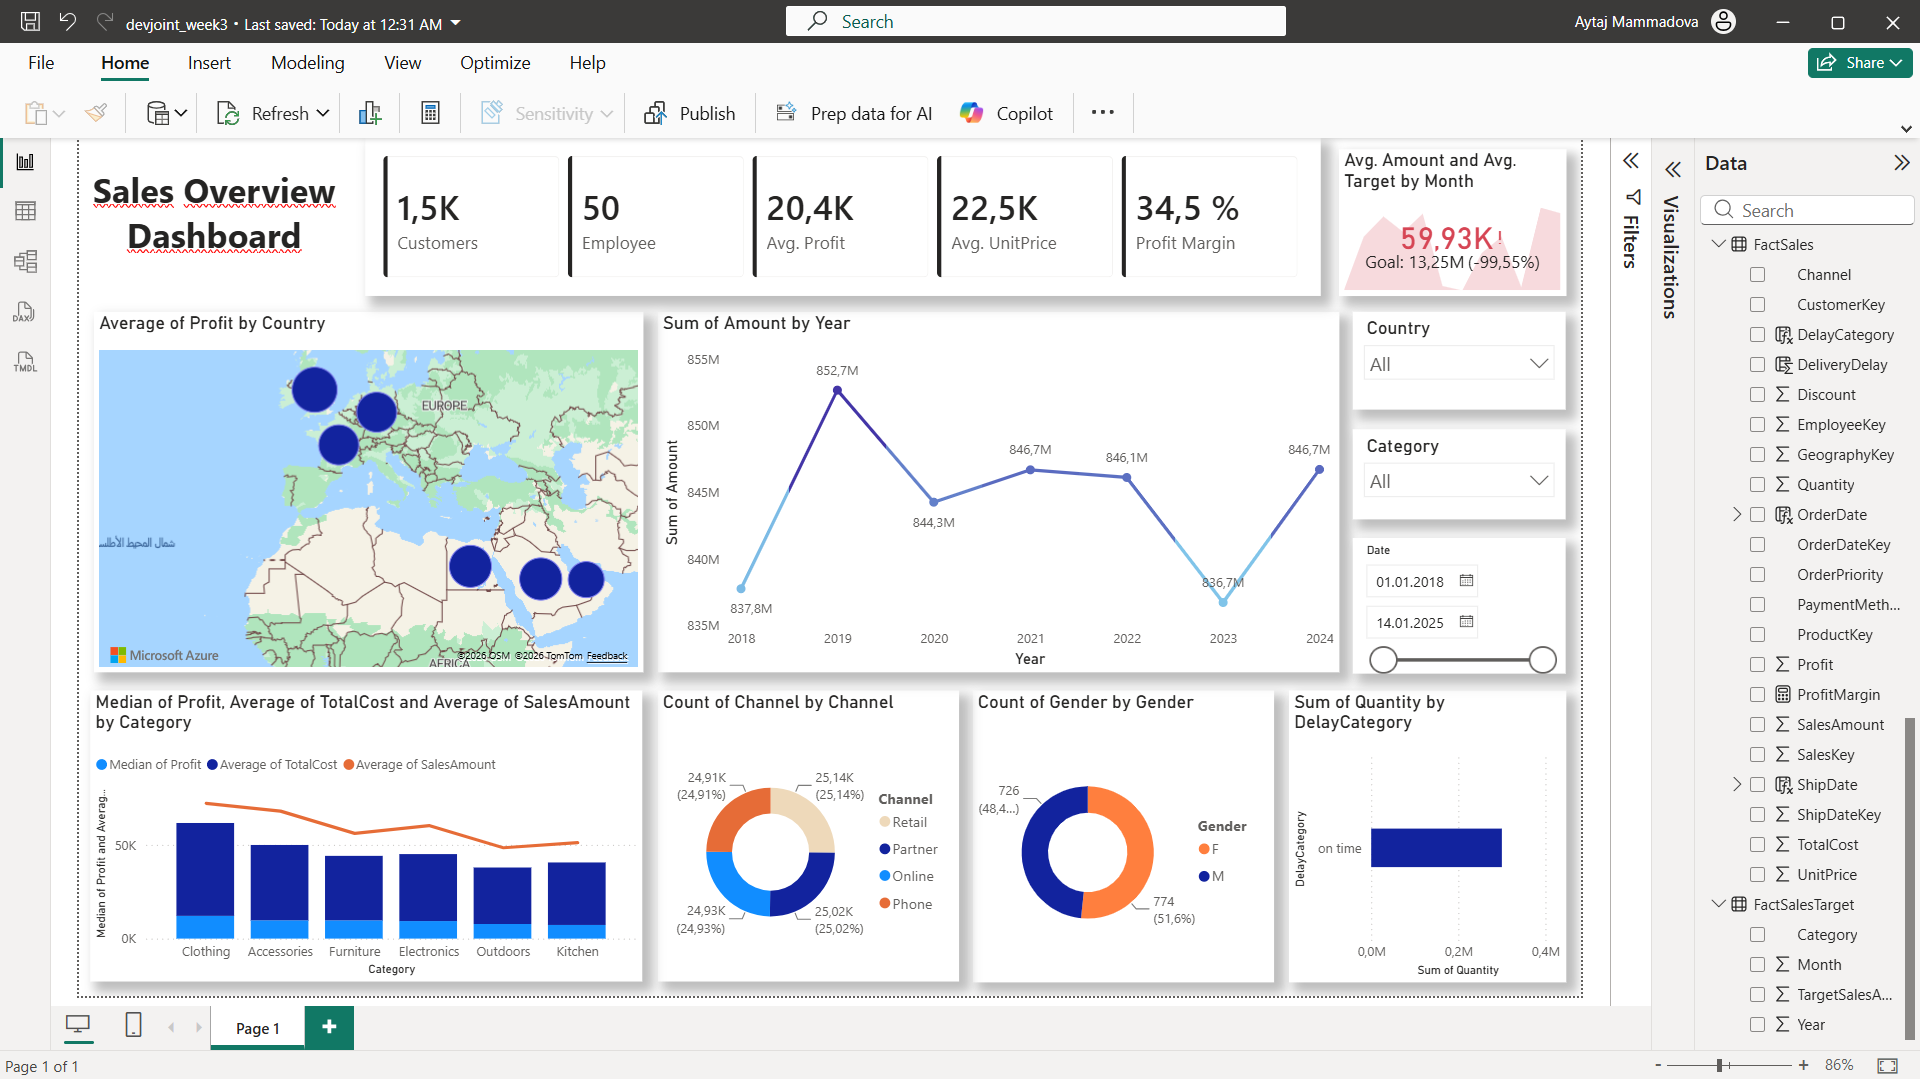

Layout of this report page (visuals, bound fields, positions):
{"tool":"powerbi","page":{"name":"Page 1","canvas":[1400,800],"ordinal":0},"visuals":[{"type":"donutChart","fields":{"Category":["DimCustomer.Gender"],"Y":["CountNonNull(DimCustomer.Gender)"]},"box":[833,514.8,280.7,271.7],"z":0},{"type":"donutChart","fields":{"Category":["FactSales.Channel"],"Y":["CountNonNull(FactSales.Channel)"]},"box":[538.8,514.8,280.7,271],"z":1},{"type":"lineChart","fields":{"Category":["DimDate2.Date.Variation.Date Hierarchy.Year","DimDate2.Date.Variation.Date Hierarchy.Month"],"Y":["Sum(FactSales.SalesAmount)"]},"box":[538.8,162.1,634.9,336.2],"z":2},{"type":"azureMap","fields":{"Category":["DimGeography.Country"],"Size":["Avg(FactSales.Profit)"]},"box":[13.5,162.1,511.8,336.2],"z":3},{"type":"cardVisual","fields":{"Data":["Count(DimCustomer.CustomerKey)","Count(FactSales.EmployeeKey)","Avg(FactSales.Profit)","Avg(FactSales.UnitPrice)","FactSales.ProfitMargin"]},"box":[267.2,0,890,147.1],"z":4},{"type":"lineStackedColumnComboChart","fields":{"Category":["DimProduct.Category"],"Y":["Median(FactSales.Profit)","Avg(FactSales.TotalCost)"],"Y2":["Avg(FactSales.SalesAmount)"]},"box":[10.5,514.8,514.8,271],"z":5},{"type":"kpi","fields":{"Goal":["Avg(FactSalesTarget.TargetSalesAmount)"],"Indicator":["Avg(FactSales.SalesAmount)"],"TrendLine":["DimDate2.Month"]},"box":[1173.7,10.5,211.6,136.6],"z":6},{"type":"clusteredBarChart","fields":{"Category":["FactSales.DelayCategory"],"Y":["Sum(FactSales.Quantity)"]},"box":[1127.1,514.8,258.1,271.7],"z":7},{"type":"textbox","box":[0,21,252.1,115.6],"z":9},{"type":"slicer","fields":{"Values":["DimGeography.Country"]},"box":[1187.2,162.1,198.1,91.6],"z":10},{"type":"slicer","fields":{"Values":["DimProduct.Category"]},"box":[1187.2,271.7,198.1,84],"z":11},{"type":"slicer","fields":{"Values":["DimDate2.Date"]},"box":[1187.2,372.2,198.1,126.1],"z":12}]}

Visuals, with their boxes on the page's 1400x800 design canvas (x1, y1, x2, y2). These are canvas units, not pixel positions in the 1920x1079 screenshot, which may show the page scaled, cropped or inside an application window:
donutChart - DimCustomer.Gender x CountNonNull(DimCustomer.Gender): rect(833, 515, 1114, 786)
donutChart - FactSales.Channel x CountNonNull(FactSales.Channel): rect(539, 515, 820, 786)
lineChart - DimDate2.Date.Variation.Date Hierarchy.Year x DimDate2.Date.Variation.Date Hierarchy.Month: rect(539, 162, 1174, 498)
azureMap - DimGeography.Country x Avg(FactSales.Profit): rect(14, 162, 525, 498)
cardVisual - Count(DimCustomer.CustomerKey) x Count(FactSales.EmployeeKey): rect(267, 0, 1157, 147)
lineStackedColumnComboChart - DimProduct.Category x Median(FactSales.Profit): rect(10, 515, 525, 786)
kpi - Avg(FactSalesTarget.TargetSalesAmount) x Avg(FactSales.SalesAmount): rect(1174, 10, 1385, 147)
clusteredBarChart - FactSales.DelayCategory x Sum(FactSales.Quantity): rect(1127, 515, 1385, 786)
textbox: rect(0, 21, 252, 137)
slicer - DimGeography.Country: rect(1187, 162, 1385, 254)
slicer - DimProduct.Category: rect(1187, 272, 1385, 356)
slicer - DimDate2.Date: rect(1187, 372, 1385, 498)
